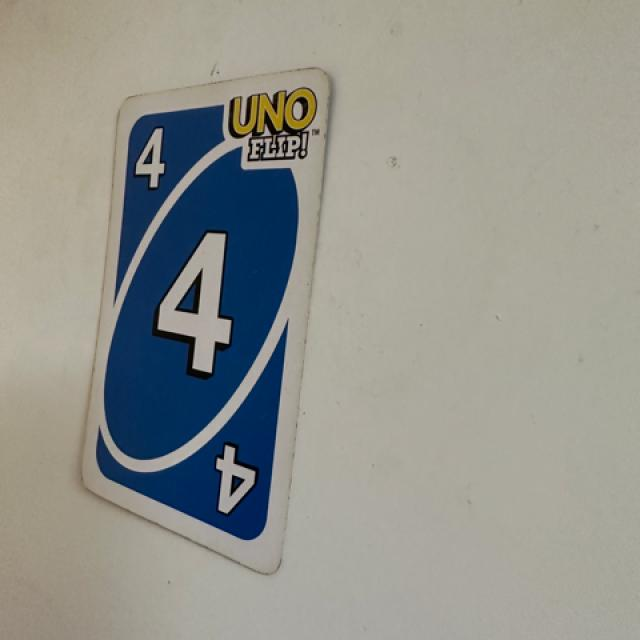lblue-4: (122, 108, 184, 209)
